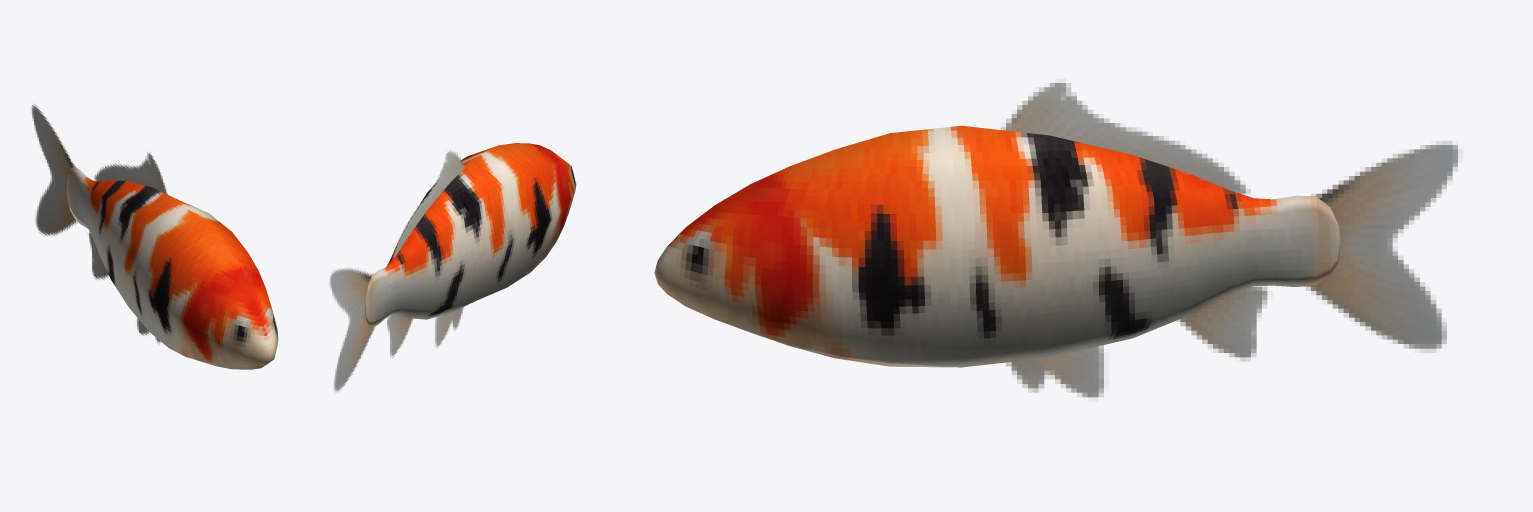
File: Koi.glb
The picture shows the model from 3 angles, left to right: view 1: azimuth 30°, elevation 25°; view 2: azimuth 150°, elevation 25°; view 3: azimuth 270°, elevation 25°; orthographic projection. The views are drawn at different scales.
Visible parts, largest first — view 1: Cube; view 2: Cube; view 3: Cube.
Part boxes in pixels (x1,y1,x2,y2): Cube: (31,104,278,369); Cube: (329,143,576,393); Cube: (654,83,1462,397).
Size of the model in its own units: 0.6656 by 2.09 by 3.56.
1 material, 1 textured.
